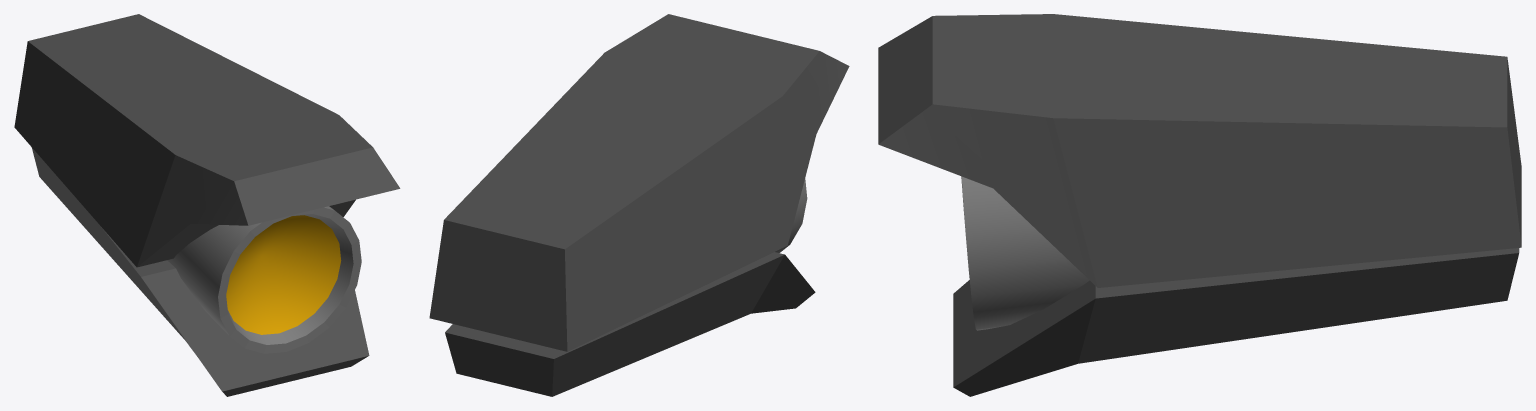
File: LightHeaded.fbx
3 renders of one model, left to right at view 1: azimuth 30°, elevation 25°; view 2: azimuth 150°, elevation 25°; view 3: azimuth 270°, elevation 25°, orthographic. The views are drawn at different scales.
Visible parts, largest first — view 1: LightHeaded; view 2: LightHeaded; view 3: LightHeaded.
Boxes of the visible parts, bbox=[...] form: LightHeaded: bbox=[14, 14, 400, 396]; LightHeaded: bbox=[429, 14, 849, 396]; LightHeaded: bbox=[878, 14, 1521, 396].
Bounding box in the file's own units: 34.34 × 36.16 × 70.91.
